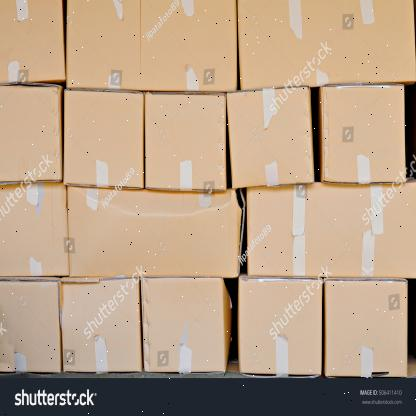box: (247, 180, 416, 276), (237, 0, 416, 89), (67, 187, 241, 277), (66, 0, 236, 92), (225, 86, 314, 187), (141, 276, 226, 375), (321, 84, 406, 183), (239, 277, 323, 376), (325, 279, 408, 378), (145, 93, 226, 191), (60, 278, 143, 373), (64, 90, 144, 187), (0, 183, 69, 274), (0, 86, 61, 181), (0, 280, 61, 371), (0, 0, 67, 81)
